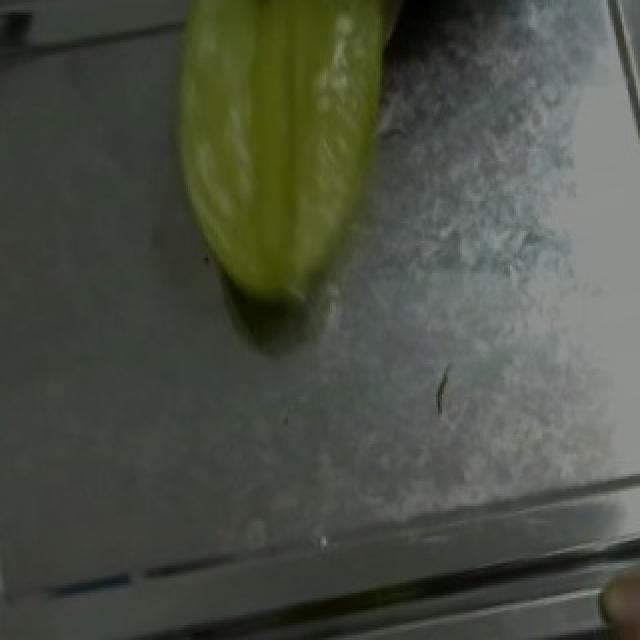fruit: (130, 0, 448, 325)
